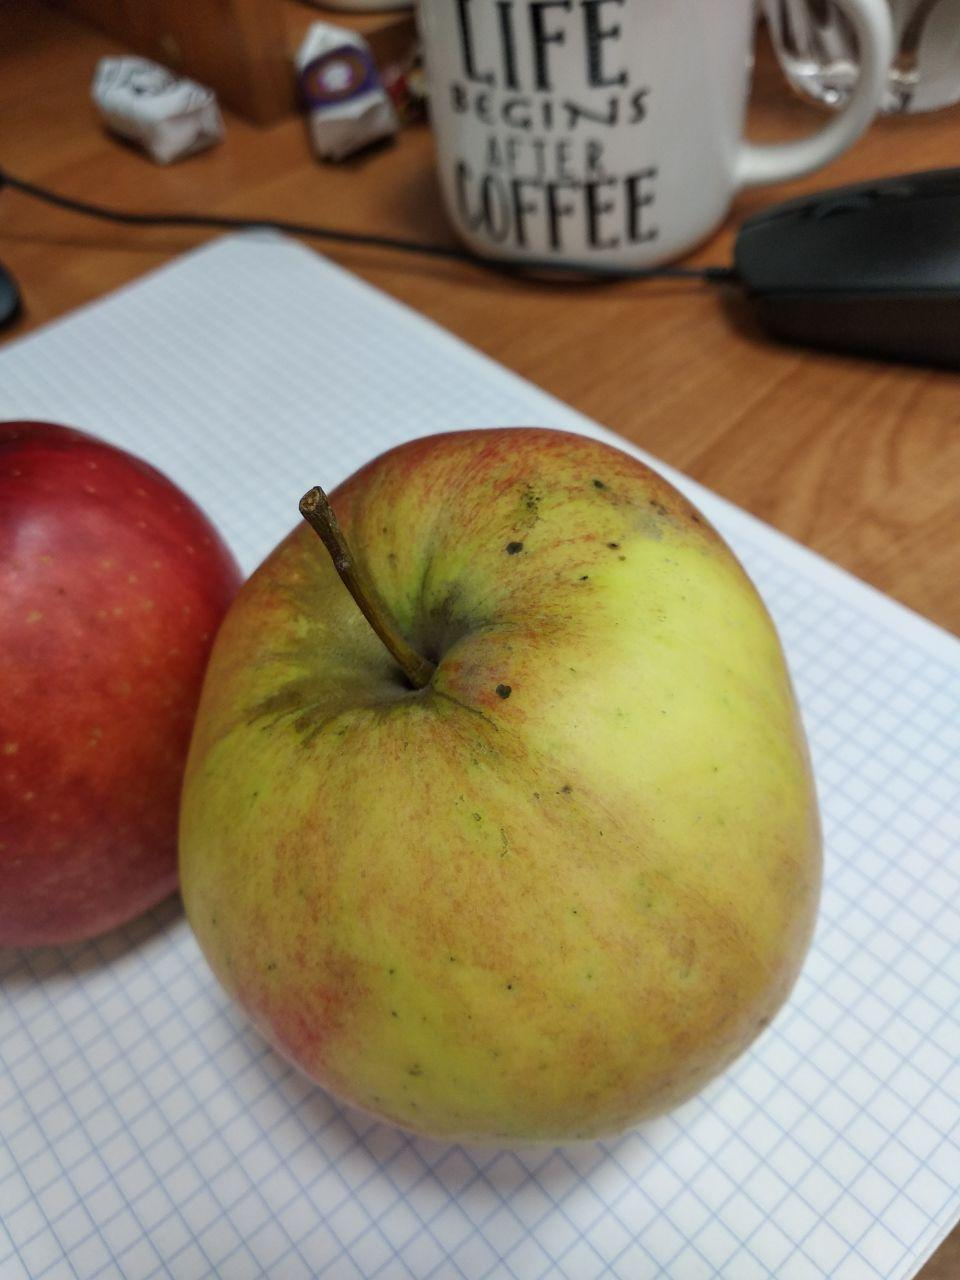Apple: (177, 423, 821, 1152)
